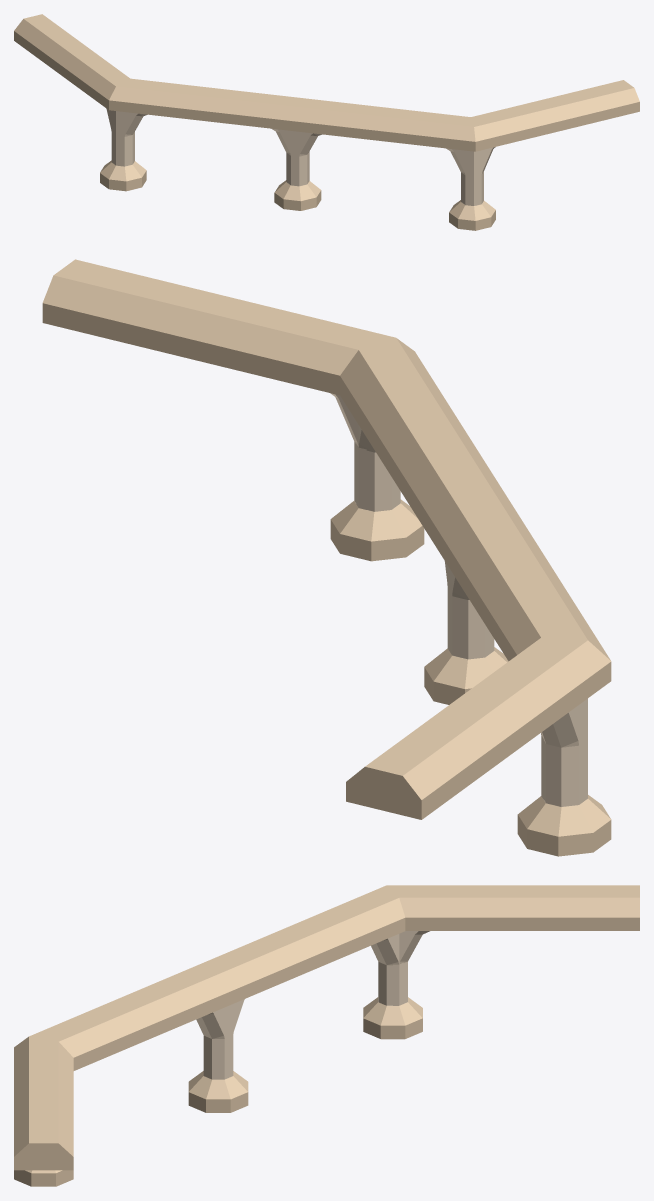
File: opengameart-modular-temple-3d-models_1.glb
3 renders of one model, top to bottom at view 1: azimuth 30°, elevation 25°; view 2: azimuth 150°, elevation 25°; view 3: azimuth 270°, elevation 25°, orthographic. The views are drawn at different scales.
Parts seen in each view (by area): view 1: object1; view 2: object1; view 3: object1.
Boxes of the visible parts, box(x1,y1,x2,y2) form: object1: box(14, 14, 639, 230); object1: box(42, 259, 611, 856); object1: box(14, 885, 639, 1186).
Bounding box in the file's own units: 2.1 × 0.5 × 2.1.
